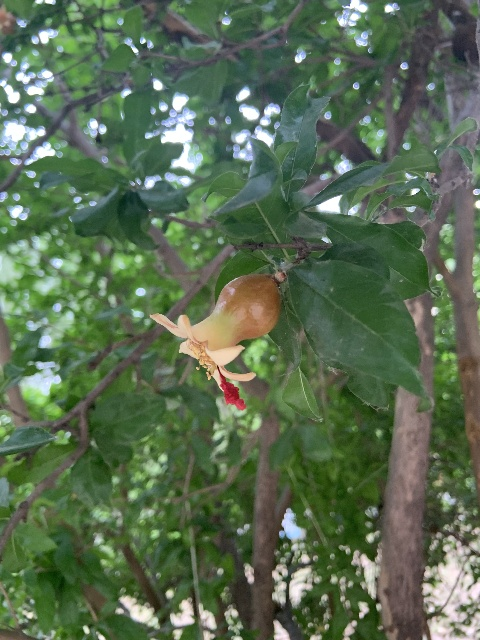early-fruit: (149, 273, 281, 410)
